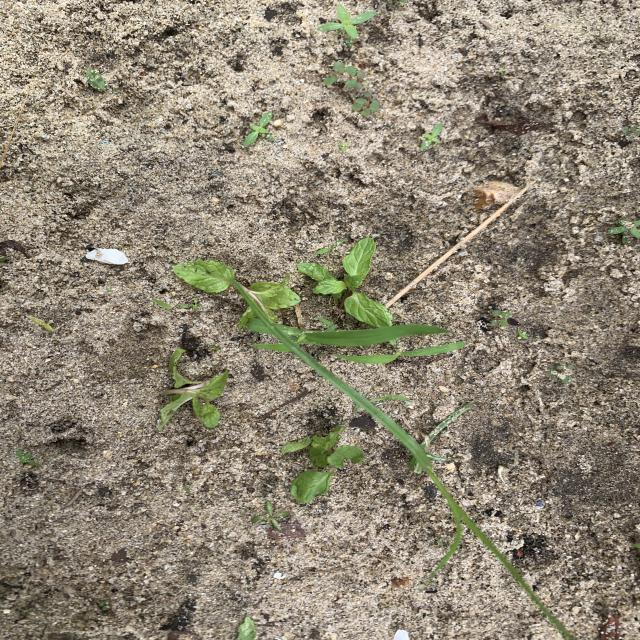crop: (299, 238, 391, 327), (173, 259, 300, 320), (282, 424, 363, 502), (158, 348, 227, 427), (238, 616, 256, 639)
weed: (233, 281, 576, 640), (294, 324, 447, 347), (318, 5, 375, 46), (324, 61, 365, 89), (252, 501, 288, 531), (244, 112, 275, 145), (609, 218, 639, 243), (352, 91, 379, 115), (420, 123, 442, 150), (313, 239, 345, 255), (15, 449, 41, 468), (548, 364, 572, 383), (373, 395, 411, 405), (491, 309, 512, 327), (31, 317, 54, 332), (186, 298, 201, 309), (516, 330, 529, 341), (339, 142, 347, 152)
